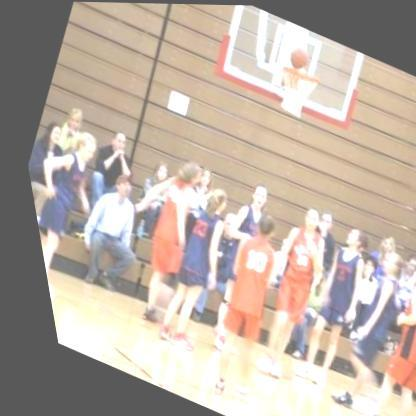basketball: (282, 40, 311, 70)
